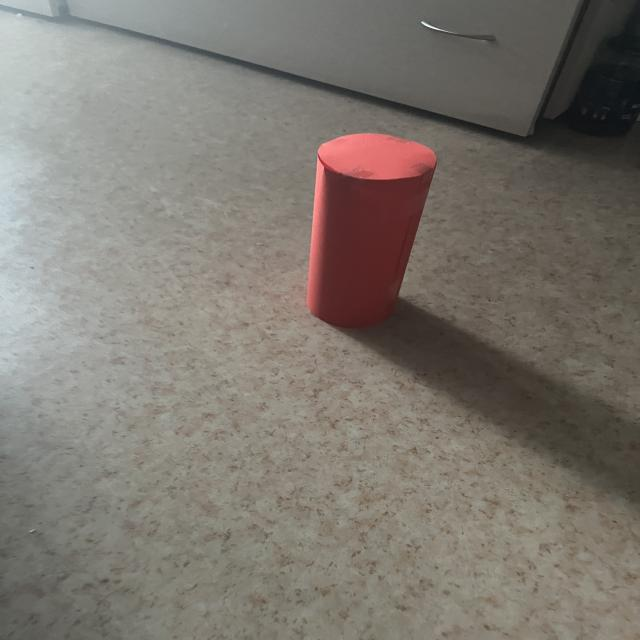przeszkoda: (307, 134, 436, 328)
